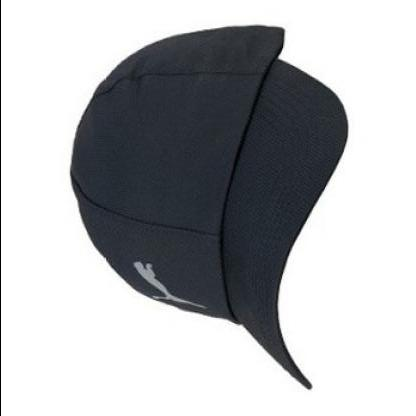cap: (62, 19, 349, 396)
